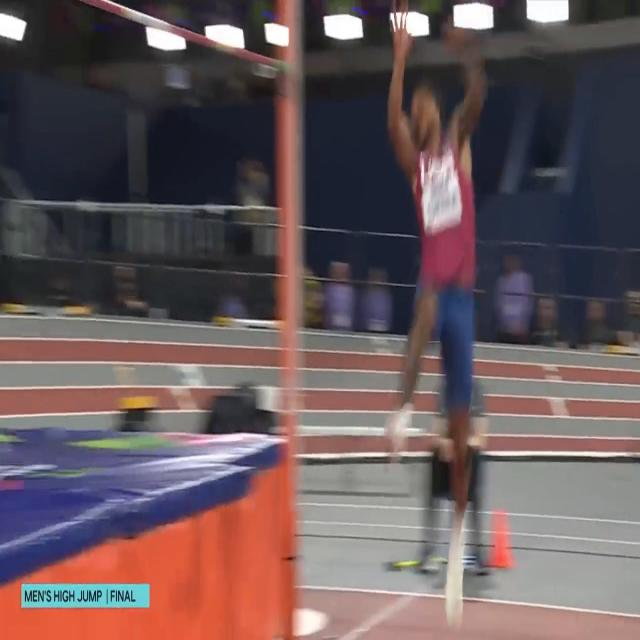jump: (384, 0, 490, 630)
